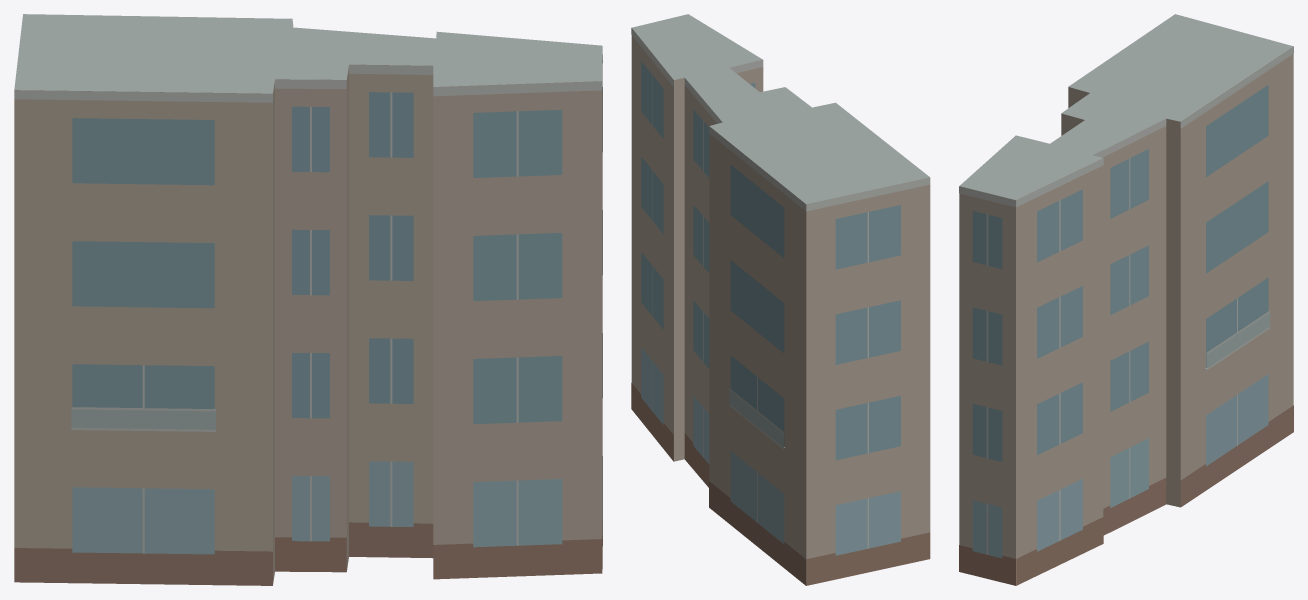
The model's file is survey-upis-33005403.glb.
The picture shows the model from 3 angles, left to right: view 1: azimuth 30°, elevation 25°; view 2: azimuth 150°, elevation 25°; view 3: azimuth 270°, elevation 25°; orthographic projection. The views are drawn at different scales.
Visible parts, largest first — view 1: survey-upis-33005403.tmp; view 2: survey-upis-33005403.tmp; view 3: survey-upis-33005403.tmp.
Part boxes in pixels (box(x1,y1,x2,y2)): survey-upis-33005403.tmp: box(14, 14, 602, 585); survey-upis-33005403.tmp: box(631, 14, 930, 585); survey-upis-33005403.tmp: box(959, 14, 1293, 585).
Bounding box in the file's own units: 13.47 × 13 × 10.23.
